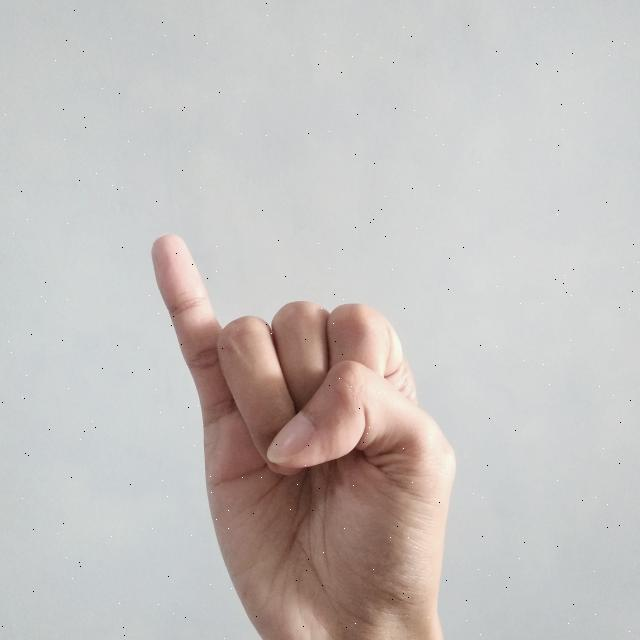I: (149, 231, 459, 640)
